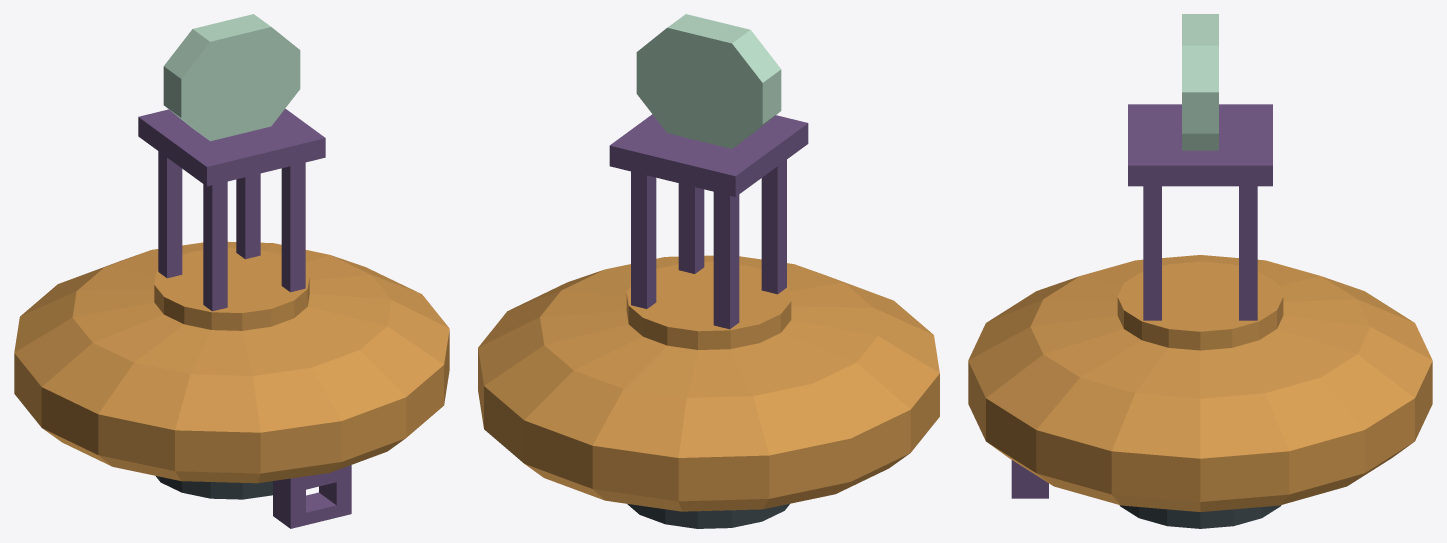
3 renders of one model, left to right at view 1: azimuth 30°, elevation 25°; view 2: azimuth 150°, elevation 25°; view 3: azimuth 270°, elevation 25°, orthographic. The views are drawn at different scales.
Visible parts, largest first — view 1: Float_BroadShoulderShortNeck, Topmark_ThickChamferedPlaque, Frame_ThickTopHeader, Lug_TrueThroughEye, Frame_Post_LF, Frame_Post_RF, Frame_Post_LB, Frame_Post_RB, Ballast_NarrowFlatSole; view 2: Float_BroadShoulderShortNeck, Topmark_ThickChamferedPlaque, Frame_ThickTopHeader, Frame_Post_LB, Frame_Post_RB, Frame_Post_LF, Frame_Post_RF, Ballast_NarrowFlatSole; view 3: Float_BroadShoulderShortNeck, Frame_ThickTopHeader, Topmark_ThickChamferedPlaque, Frame_Post_RB, Frame_Post_RF, Ballast_NarrowFlatSole, Lug_TrueThroughEye.
Boxes of the visible parts, <box> form: Float_BroadShoulderShortNeck: <box>14,241,449,483</box>; Topmark_ThickChamferedPlaque: <box>163,14,300,141</box>; Frame_ThickTopHeader: <box>138,108,325,186</box>; Lug_TrueThroughEye: <box>273,465,351,528</box>; Frame_Post_LF: <box>203,181,227,311</box>; Frame_Post_RF: <box>281,162,305,292</box>; Frame_Post_LB: <box>158,151,182,278</box>; Frame_Post_RB: <box>236,173,260,259</box>; Ballast_NarrowFlatSole: <box>156,476,272,499</box>; Float_BroadShoulderShortNeck: <box>478,255,939,511</box>; Topmark_ThickChamferedPlaque: <box>636,14,781,148</box>; Frame_ThickTopHeader: <box>609,114,808,196</box>; Frame_Post_LB: <box>713,192,739,329</box>; Frame_Post_RB: <box>631,171,656,308</box>; Frame_Post_LF: <box>761,159,786,294</box>; Frame_Post_RF: <box>678,183,704,273</box>; Ballast_NarrowFlatSole: <box>627,504,789,528</box>; Float_BroadShoulderShortNeck: <box>968,255,1432,511</box>; Frame_ThickTopHeader: <box>1128,104,1272,186</box>; Topmark_ThickChamferedPlaque: <box>1182,14,1218,150</box>; Frame_Post_RB: <box>1239,186,1257,320</box>; Frame_Post_RF: <box>1143,186,1161,320</box>; Ballast_NarrowFlatSole: <box>1119,505,1281,528</box>; Lug_TrueThroughEye: <box>1011,460,1048,498</box>.
Size of the model in its own units: 2.24 by 2.46 by 2.24.
